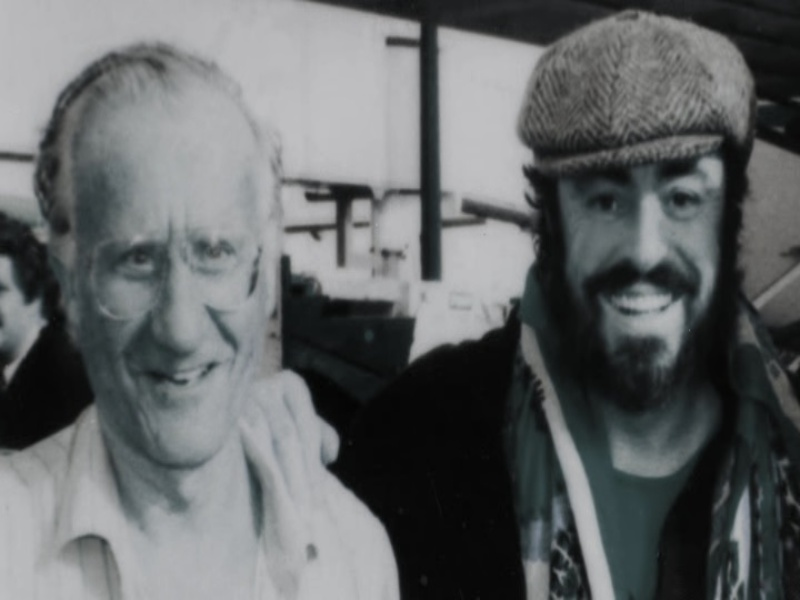TsisyArotava: (46, 89, 286, 491), (520, 36, 741, 423)
